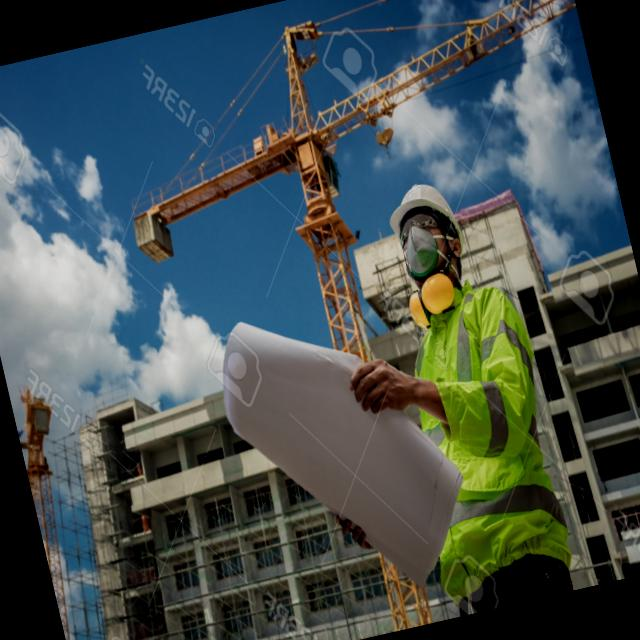goggles: (388, 208, 444, 250)
helmet: (376, 163, 462, 234)
vest: (367, 270, 582, 592)
